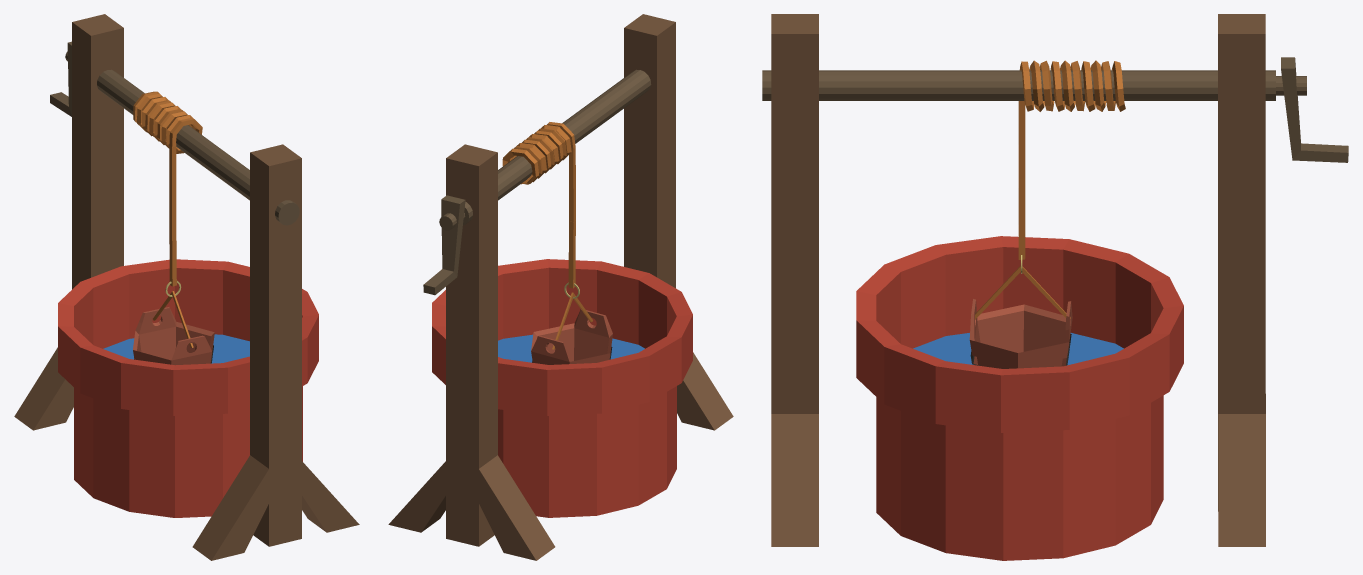
The model's file is put.fbx.
The picture shows the model from 3 angles, left to right: view 1: azimuth 30°, elevation 25°; view 2: azimuth 150°, elevation 25°; view 3: azimuth 270°, elevation 25°; orthographic projection. The views are drawn at different scales.
Parts seen in each view (by area): view 1: Put, Palen, Poten, Emmer, Cilinder, Touw, Hendel; view 2: Put, Palen, Poten, Emmer, Cilinder, Touw, Hendel; view 3: Put, Palen, Poten, Cilinder, Emmer, Touw, Hendel.
Boxes of the visible parts, x1,y1,x2,y2 form: Put: (58,259,318,517); Palen: (72,14,301,546); Poten: (14,347,359,560); Emmer: (133,218,214,365); Cilinder: (65,51,299,225); Touw: (133,91,202,229); Hendel: (50,41,71,116); Put: (432,259,692,517); Palen: (446,14,675,546); Poten: (388,352,733,560); Emmer: (531,220,612,364); Cilinder: (439,69,651,230); Touw: (502,122,575,230); Hendel: (423,195,465,295); Put: (856,236,1183,560); Palen: (771,14,1265,511); Poten: (771,394,1265,546); Cilinder: (762,70,1306,100); Emmer: (969,178,1072,368); Touw: (1018,60,1125,187); Hendel: (1281,57,1348,162).
Size of the model in its own units: 218 by 349 by 388.
